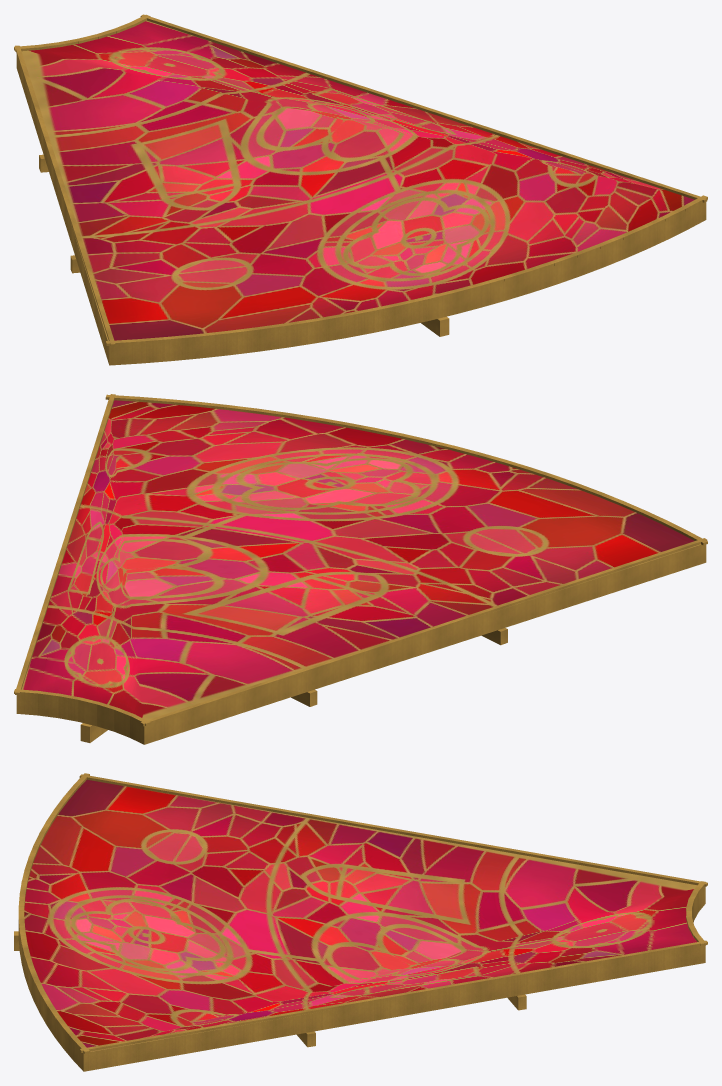
File: lb_wedge_0.glb
3 views of the same model, one above another, from view 1: azimuth 30°, elevation 25°; view 2: azimuth 150°, elevation 25°; view 3: azimuth 270°, elevation 25° (orthographic). The views are drawn at different scales.
Visible parts, largest first — view 1: lb_wedge_0; view 2: lb_wedge_0; view 3: lb_wedge_0.
Boxes of the visible parts, x1,y1,x2,y2 form: lb_wedge_0: [14, 14, 707, 365]; lb_wedge_0: [14, 394, 707, 744]; lb_wedge_0: [14, 773, 707, 1071].
Bounding box in the file's own units: 11.56 × 1.35 × 12.17.
Materials: 4 (3 with a texture image).
